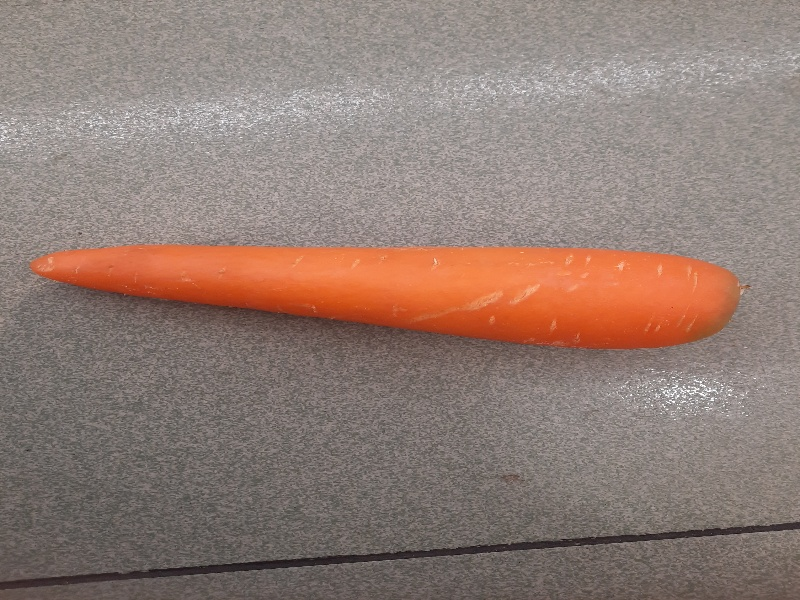vege: (27, 237, 747, 372)
